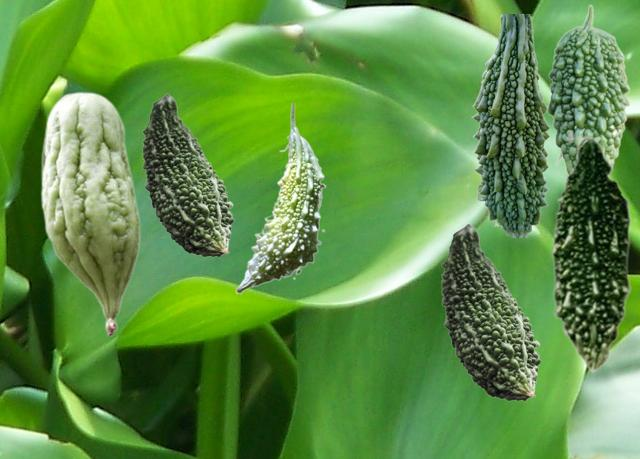ampalaya: (40, 91, 140, 336), (551, 132, 636, 373), (441, 223, 540, 400), (471, 14, 549, 236), (235, 103, 325, 293), (142, 93, 233, 256), (547, 4, 629, 172)
